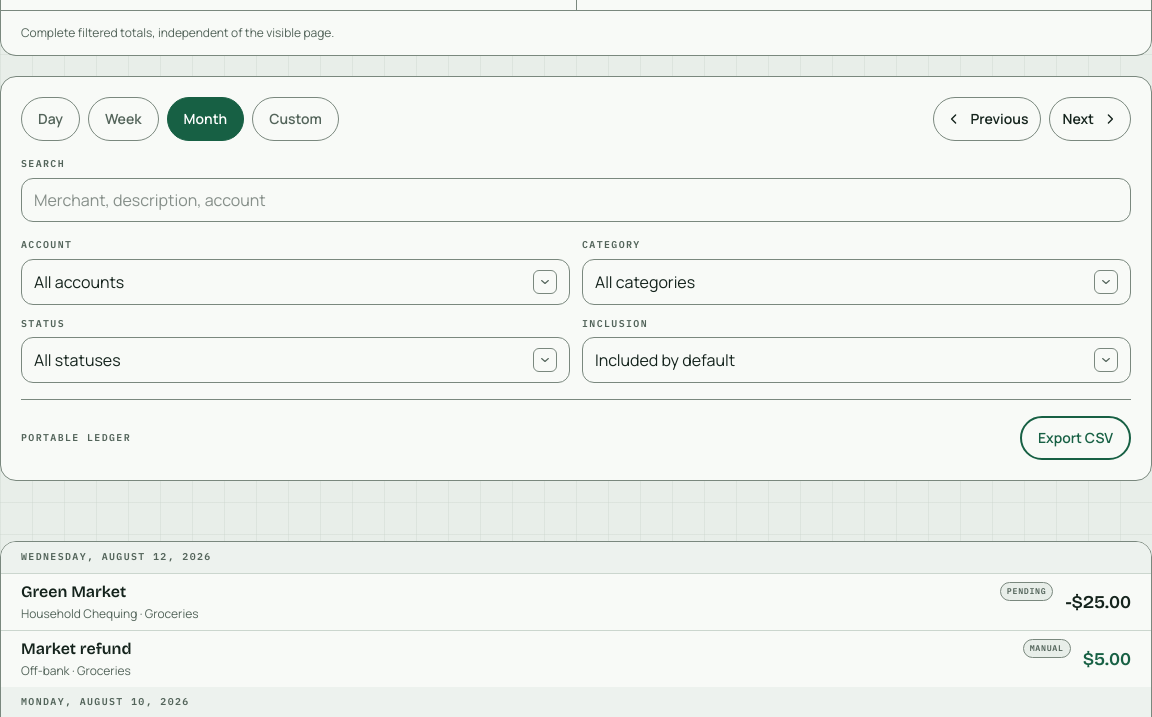
Test: GH-30 transaction explorer › COMP-006 makes export unavailable with a stated reason for an empty result set
This screenshot has width=1152, height=717.
(page scrolled)
Click the dropdown with test id "transactions-status-filter" at (77, 360), box x1=21 y1=337 x2=570 y2=383
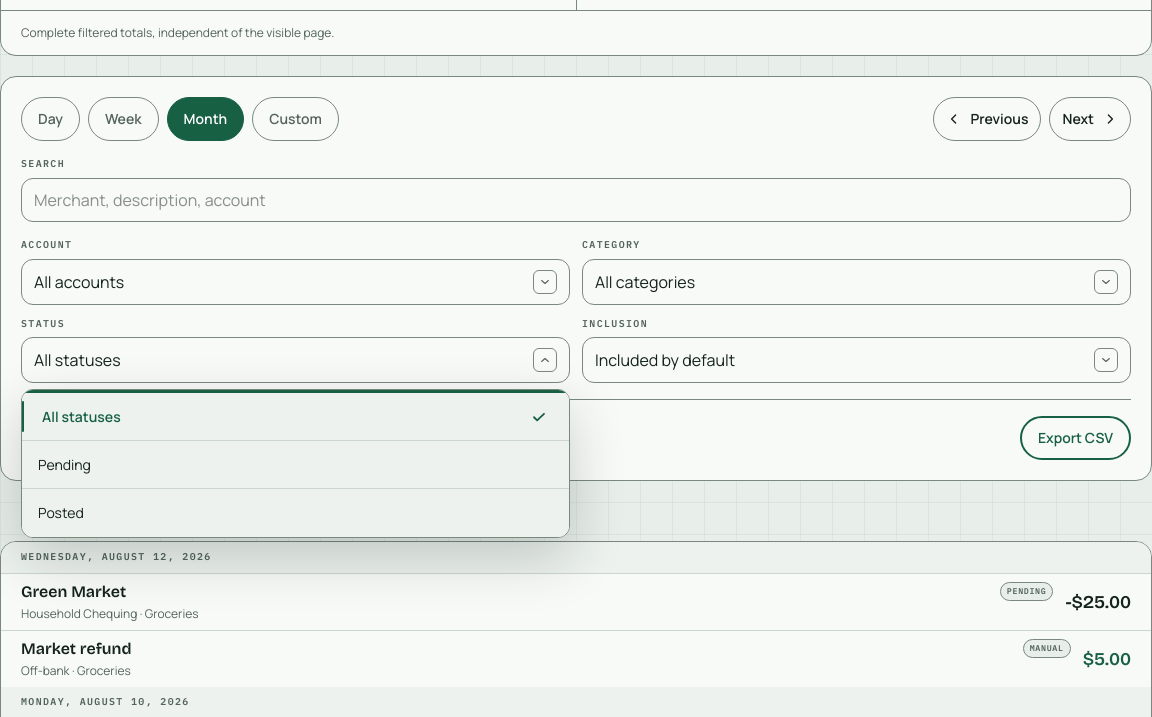
Click the option "Posted" at (61, 513), box x1=38 y1=503 x2=84 y2=522
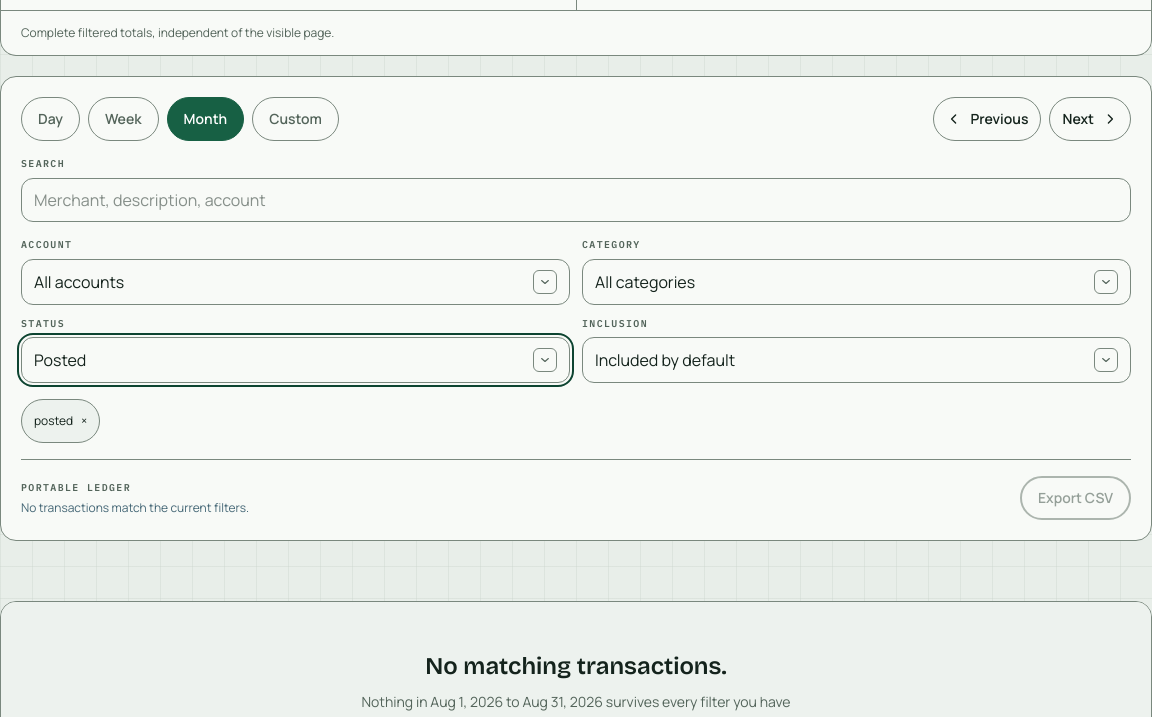
Expected: the text with test id "transactions-export-reason" shows "No transactions match", x1=21 y1=499 x2=249 y2=516
